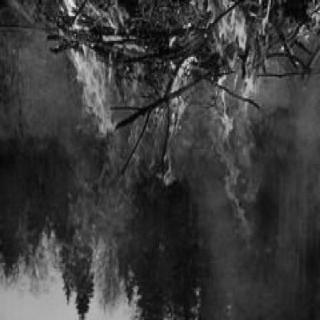Fire: (41, 2, 315, 246)
